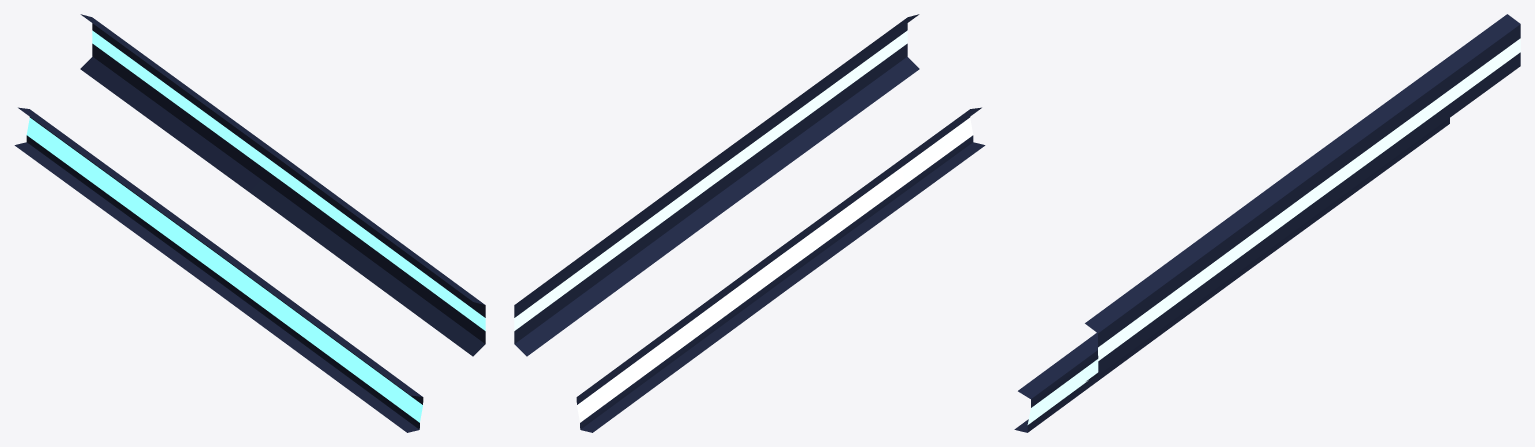
File: Curb_00.fbx
The picture shows the model from 3 angles, left to right: view 1: azimuth 30°, elevation 25°; view 2: azimuth 150°, elevation 25°; view 3: azimuth 330°, elevation 25°; orthographic projection. The views are drawn at different scales.
Parts seen in each view (by area): view 1: Curb_00; view 2: Curb_00; view 3: Curb_00.
Boxes of the visible parts, <box> form: Curb_00: <box>14,14,485,432</box>; Curb_00: <box>514,14,985,432</box>; Curb_00: <box>1014,14,1520,432</box>.
Bounding box in the file's own units: 230 × 325 × 2002.
